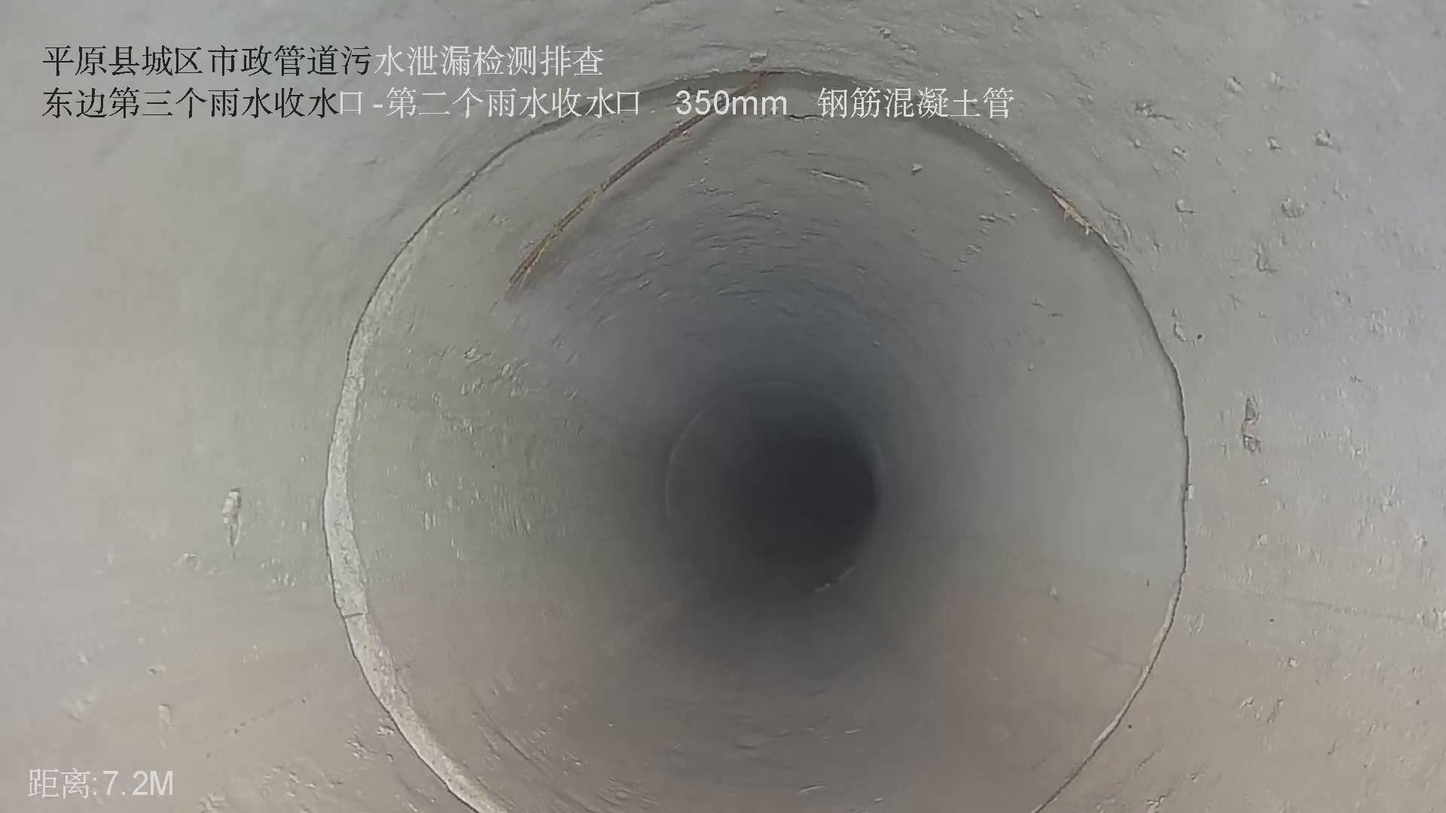CKTJ: (321, 119, 568, 812)
JKCL: (510, 71, 784, 288)
